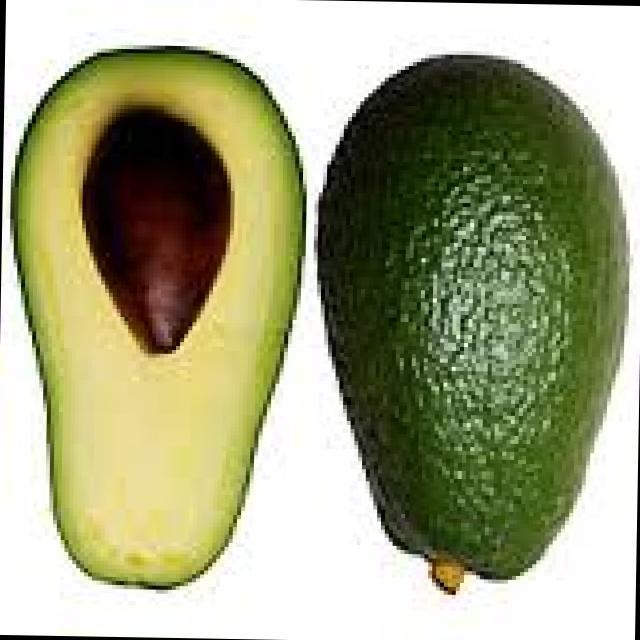Avocado: (302, 56, 628, 621), (0, 22, 313, 603)
